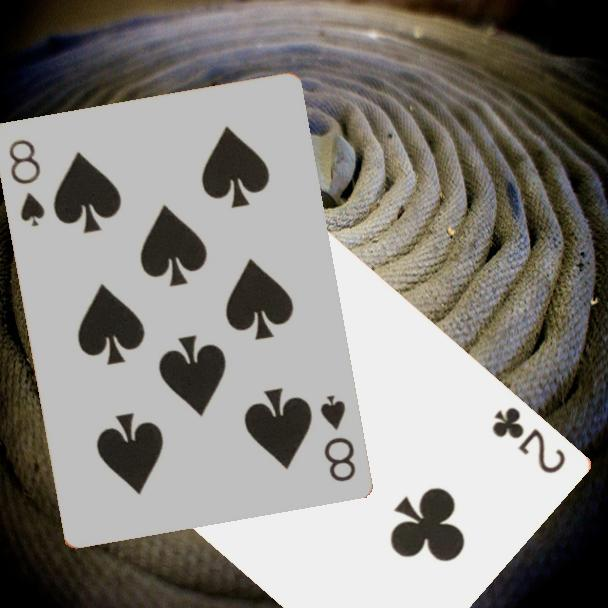c02: (487, 403, 568, 477)
s08: (5, 135, 47, 230), (316, 391, 358, 485)
